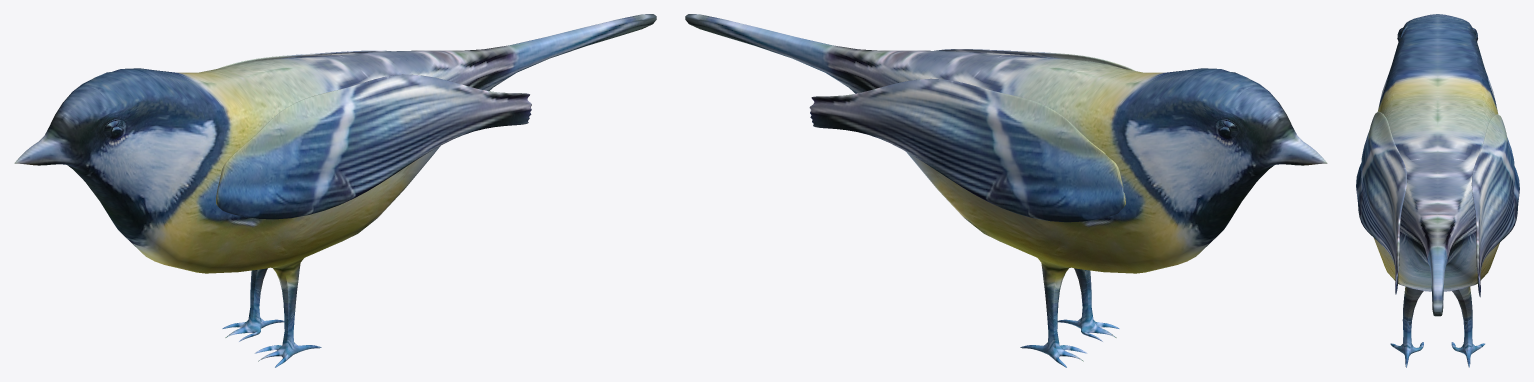
File: Bird.glb
The picture shows the model from 3 angles, left to right: view 1: azimuth 30°, elevation 25°; view 2: azimuth 150°, elevation 25°; view 3: azimuth 270°, elevation 25°; orthographic projection. The views are drawn at different scales.
Visible parts, largest first — view 1: Cube; view 2: Cube; view 3: Cube.
Boxes of the visible parts, x1,y1,x2,y2 form: Cube: [14, 14, 656, 367]; Cube: [685, 14, 1327, 367]; Cube: [1356, 14, 1519, 367].
Size of the model in its own units: 255 by 114 by 63.26.
2 materials, 2 textured.
